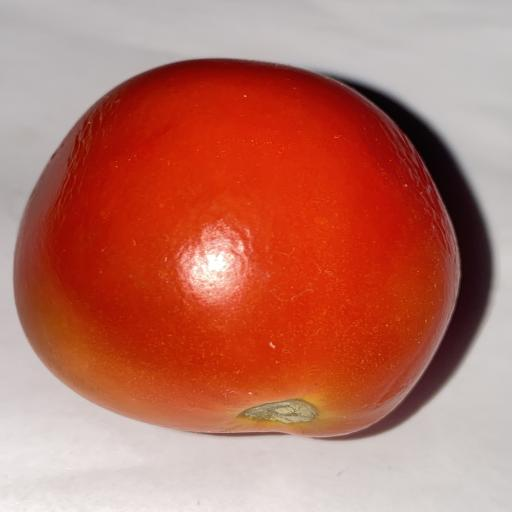ripe: (15, 59, 460, 437)
